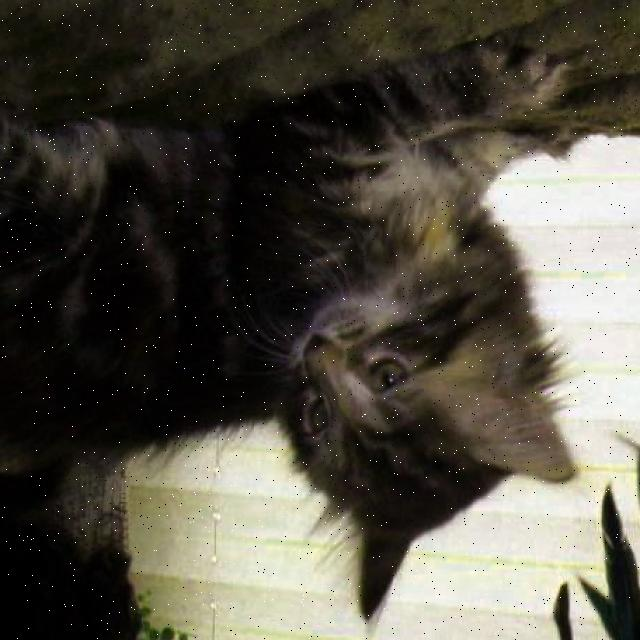Cat: (263, 233, 572, 610)
